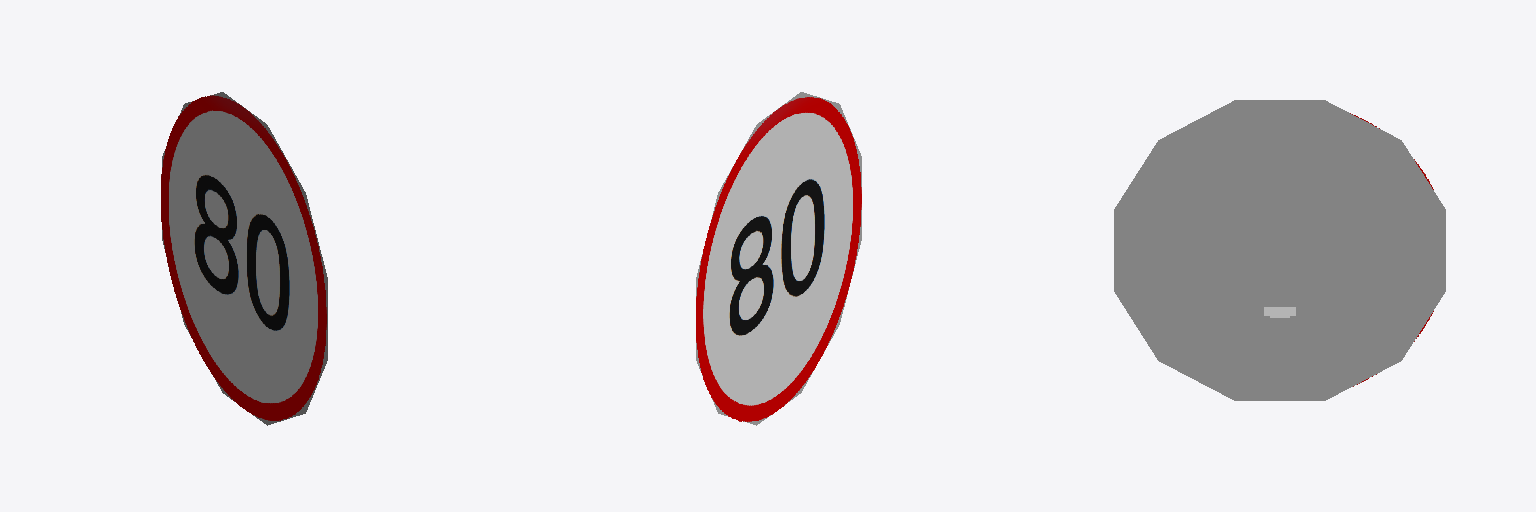
3 views of the same model, side by side, from view 1: azimuth 30°, elevation 25°; view 2: azimuth 150°, elevation 25°; view 3: azimuth 270°, elevation 25° (orthographic).
Visible parts, largest first — view 1: cube, circle; view 2: cube, circle; view 3: circle, cube.
Boxes of the visible parts, <box> form: cube: <box>161,95,326,420</box>; circle: <box>162,92,327,425</box>; cube: <box>696,97,861,421</box>; circle: <box>696,92,861,425</box>; circle: <box>1114,100,1445,400</box>; cube: <box>1264,113,1433,386</box>.
Bounding box in the file's own units: 0.0797 × 1 × 1.
2 materials, 1 textured.